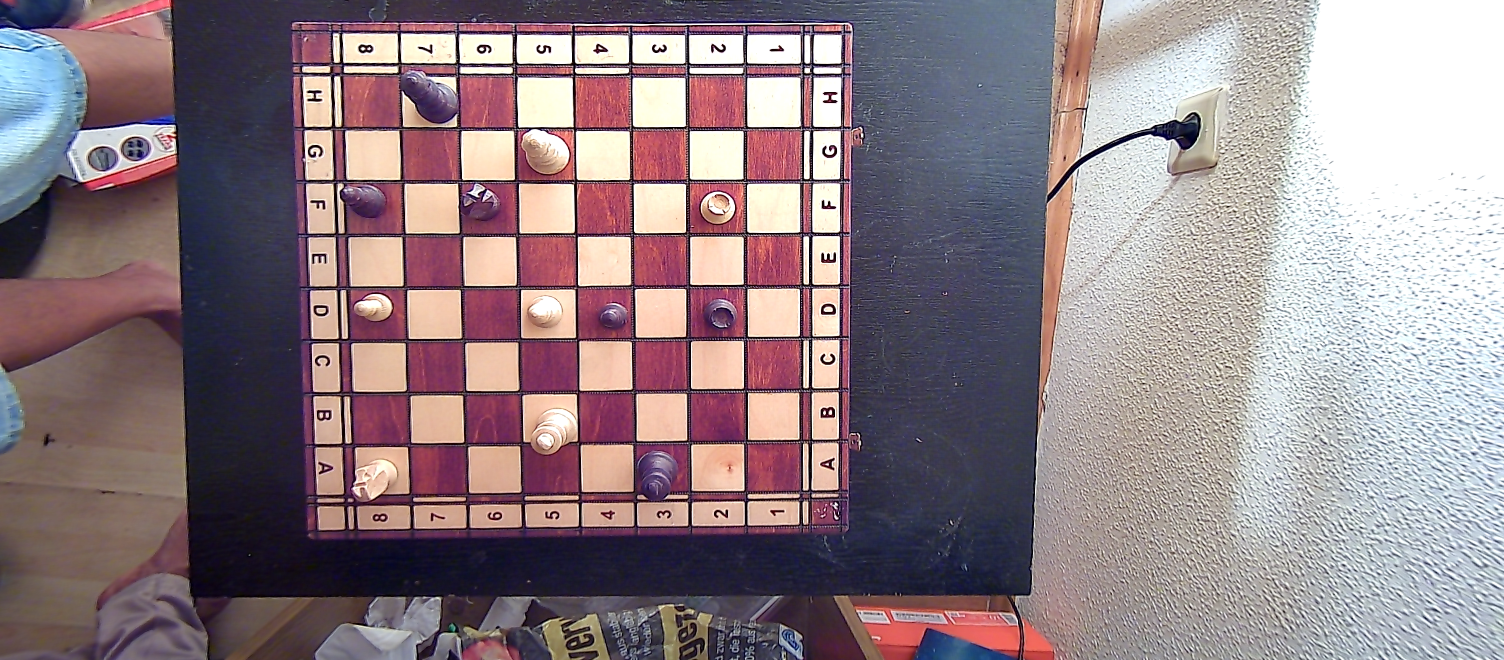black-bishop: (335, 180, 391, 222)
black-king: (637, 450, 680, 501)
black-knight: (456, 180, 504, 224)
black-pawn: (596, 298, 630, 334)
black-queen: (397, 67, 461, 126)
black-rook: (702, 296, 740, 333)
white-bishop: (526, 293, 564, 333)
white-king: (530, 406, 577, 454)
white-knight: (348, 456, 400, 503)
white-pawn: (353, 289, 394, 326)
white-queen: (519, 126, 570, 177)
white-rook: (697, 188, 737, 227)
